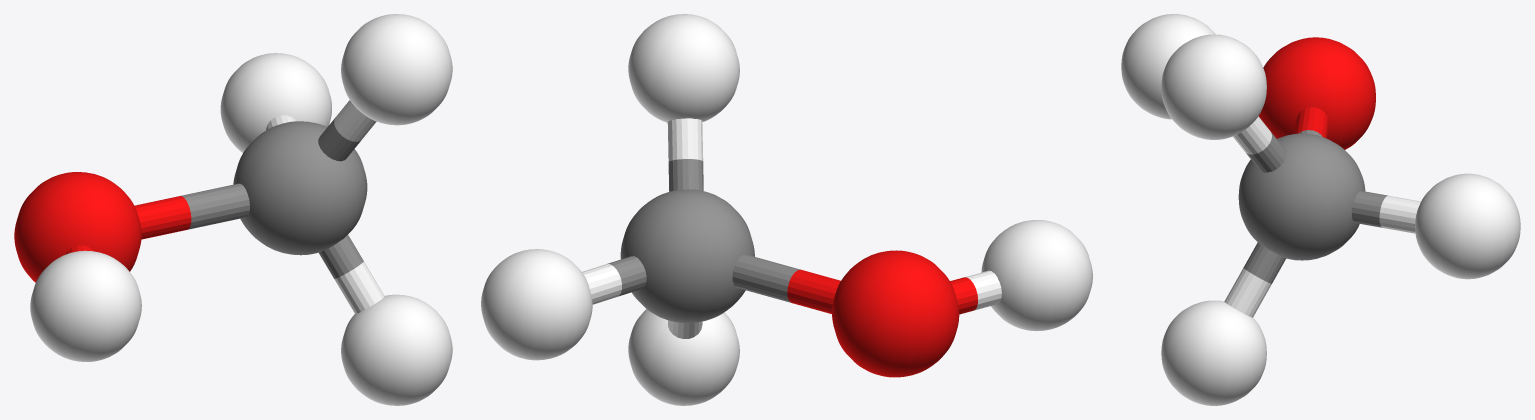
Rendered from Methanol.obj.
The picture shows the model from 3 angles, left to right: view 1: azimuth 30°, elevation 25°; view 2: azimuth 150°, elevation 25°; view 3: azimuth 270°, elevation 25°; orthographic projection. The views are drawn at different scales.
Parts seen in each view (by area): view 1: Carbon_ball_SurfSphere, Hydrogen_ball_SurfSphere.002, Hydrogen_ball_SurfSphere.002.002, Hydrogen_ball_SurfSphere.002.000, Oxygen_ball_SurfSphere.001, Hydrogen_ball_SurfSphere.002.001; view 2: Carbon_ball_SurfSphere, Oxygen_ball_SurfSphere.001, Hydrogen_ball_SurfSphere.002.001, Hydrogen_ball_SurfSphere.002, Hydrogen_ball_SurfSphere.002.002, Hydrogen_ball_SurfSphere.002.000; view 3: Carbon_ball_SurfSphere, Oxygen_ball_SurfSphere.001, Hydrogen_ball_SurfSphere.002.001, Hydrogen_ball_SurfSphere.002, Hydrogen_ball_SurfSphere.002.000, Hydrogen_ball_SurfSphere.002.002.
Part boxes in pixels (left/top/right/bottom): Carbon_ball_SurfSphere: left=233, top=121, right=367, bottom=255; Hydrogen_ball_SurfSphere.002: left=341, top=14, right=452, bottom=125; Hydrogen_ball_SurfSphere.002.002: left=30, top=250, right=141, bottom=361; Hydrogen_ball_SurfSphere.002.000: left=341, top=294, right=452, bottom=405; Oxygen_ball_SurfSphere.001: left=14, top=172, right=141, bottom=282; Hydrogen_ball_SurfSphere.002.001: left=220, top=53, right=331, bottom=152; Carbon_ball_SurfSphere: left=620, top=189, right=754, bottom=323; Oxygen_ball_SurfSphere.001: left=832, top=250, right=959, bottom=377; Hydrogen_ball_SurfSphere.002.001: left=481, top=249, right=592, bottom=360; Hydrogen_ball_SurfSphere.002: left=628, top=14, right=739, bottom=122; Hydrogen_ball_SurfSphere.002.002: left=981, top=220, right=1092, bottom=331; Hydrogen_ball_SurfSphere.002.000: left=628, top=309, right=739, bottom=405; Carbon_ball_SurfSphere: left=1238, top=133, right=1365, bottom=260; Oxygen_ball_SurfSphere.001: left=1258, top=37, right=1375, bottom=149; Hydrogen_ball_SurfSphere.002.001: left=1415, top=173, right=1520, bottom=279; Hydrogen_ball_SurfSphere.002: left=1161, top=34, right=1266, bottom=139; Hydrogen_ball_SurfSphere.002.000: left=1161, top=300, right=1266, bottom=405; Hydrogen_ball_SurfSphere.002.002: left=1121, top=14, right=1215, bottom=119.
Size of the model in its own units: 0.8795 by 0.726 by 0.7265.
